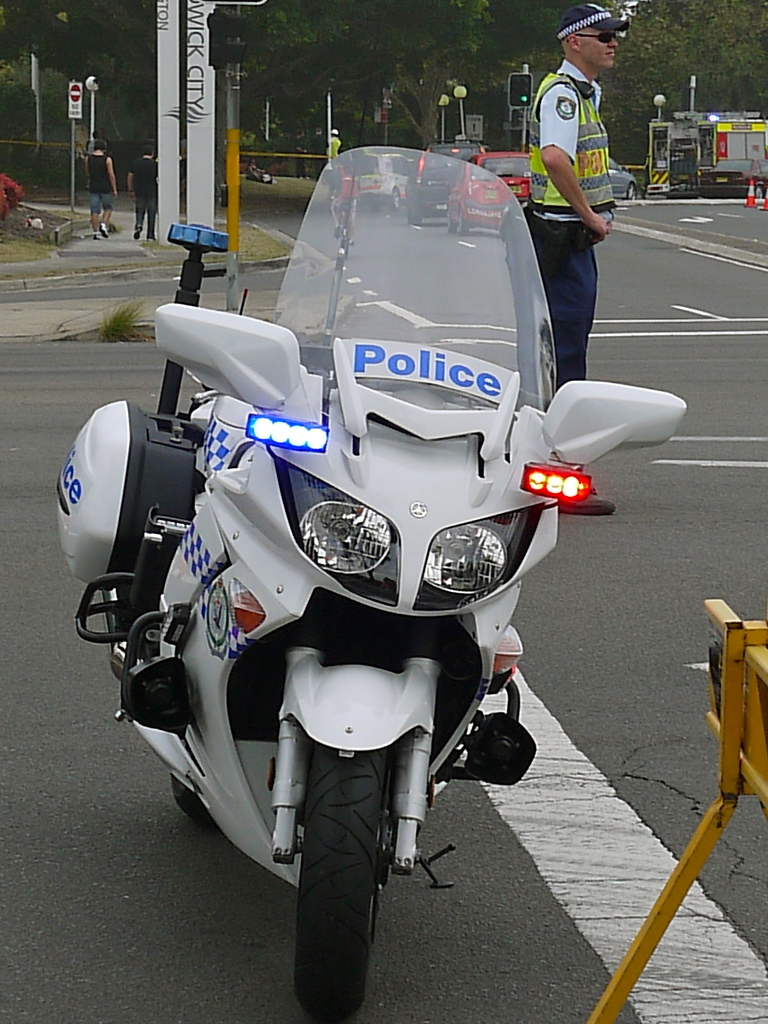motor: (62, 128, 585, 999)
